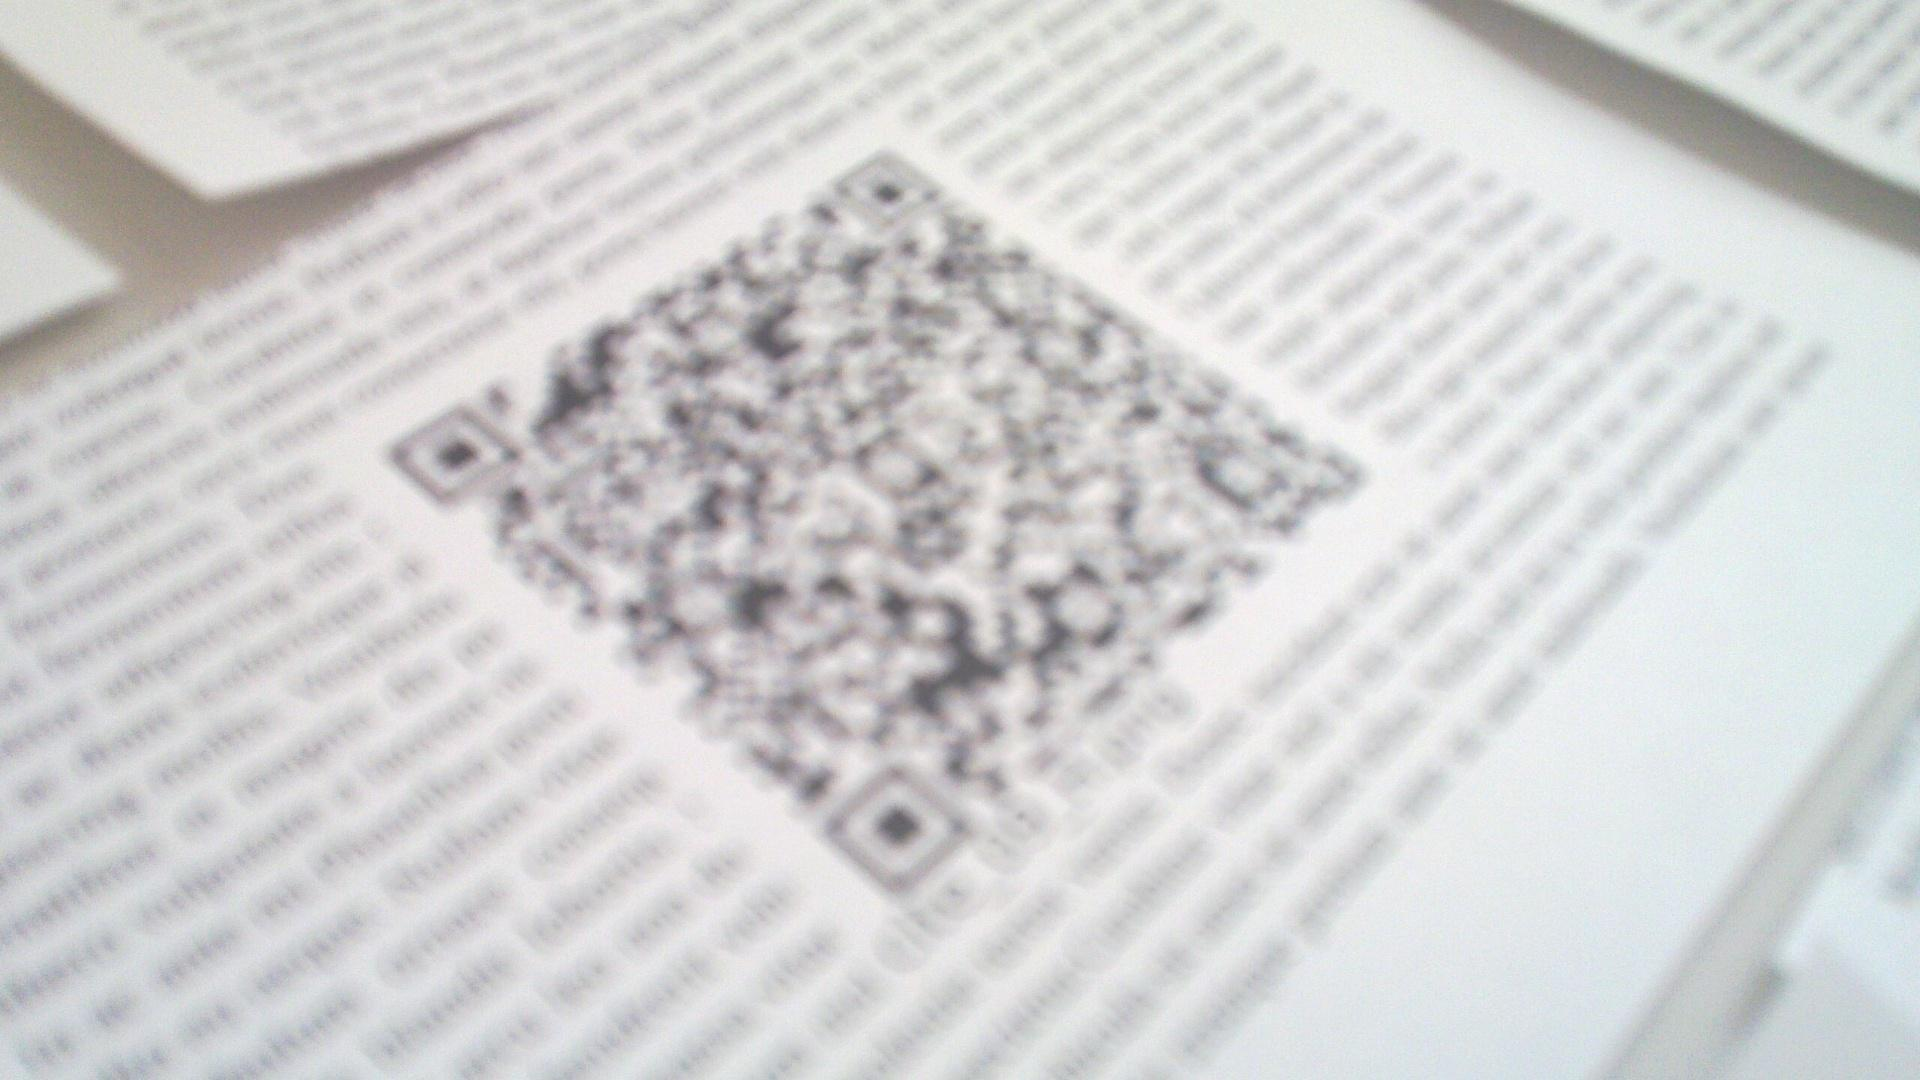Finder pattern: (822, 760, 973, 902), (384, 402, 520, 498), (828, 137, 949, 229)
